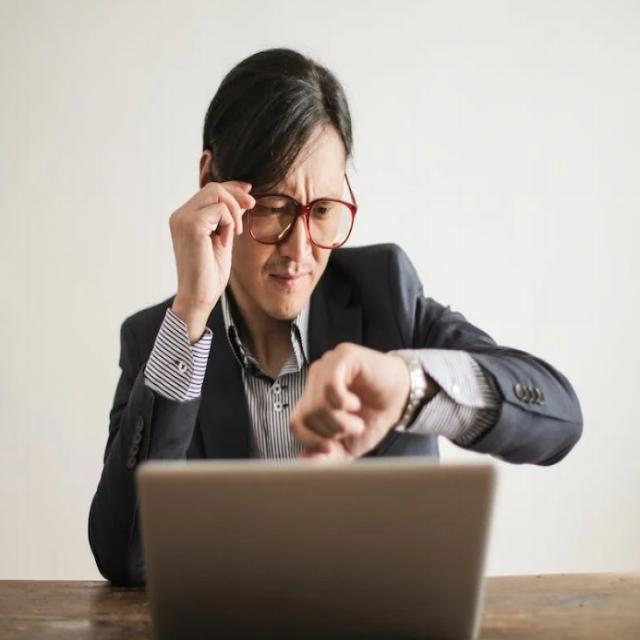Watch: (392, 342, 428, 440)
